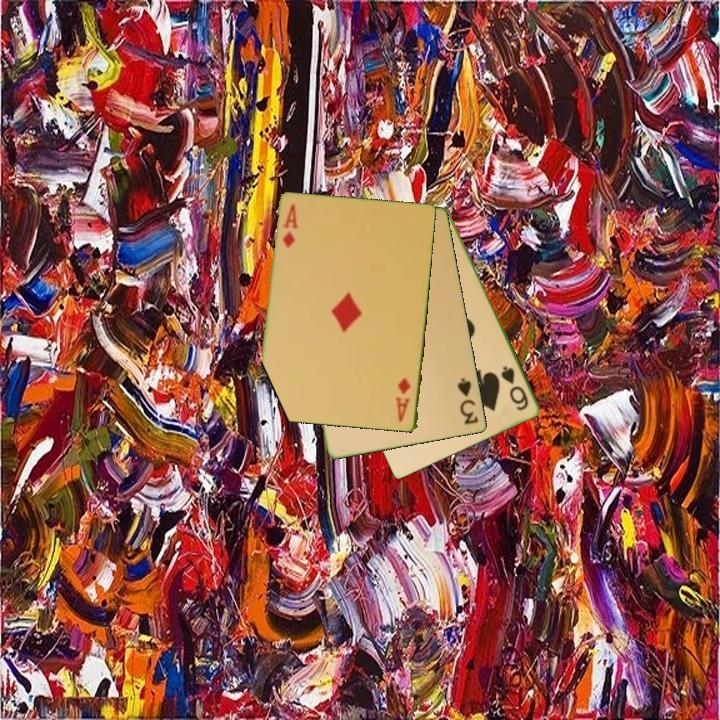3s: (454, 375, 481, 428)
6s: (498, 363, 532, 414)
Ad: (393, 374, 413, 425), (279, 200, 299, 251)
